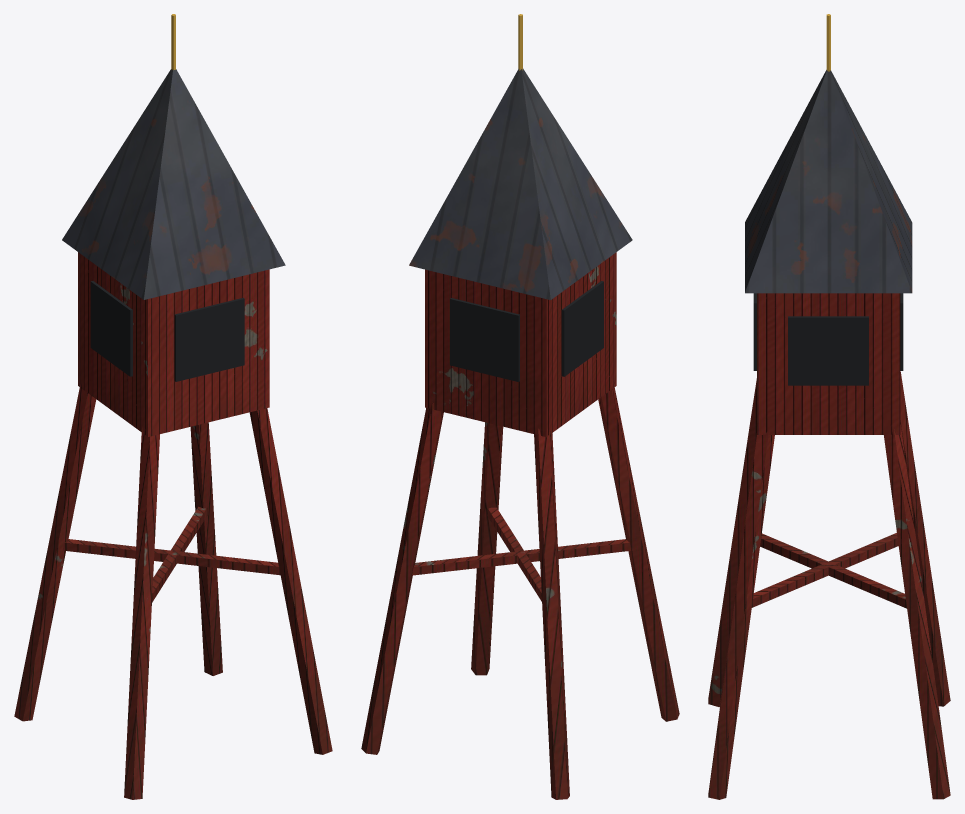
The model's file is klockstapel_tex.glb.
3 renders of one model, left to right at view 1: azimuth 30°, elevation 25°; view 2: azimuth 150°, elevation 25°; view 3: azimuth 270°, elevation 25°, orthographic. The views are drawn at different scales.
Visible parts, largest first — view 1: klockstapel; view 2: klockstapel; view 3: klockstapel.
Boxes of the visible parts, box(x1,y1,x2,y2) form: klockstapel: box(14, 14, 332, 799); klockstapel: box(361, 14, 679, 799); klockstapel: box(708, 14, 950, 799).
Size of the model in its own units: 3.9 by 13.03 by 3.89.
Materials: 4 (2 with a texture image).
